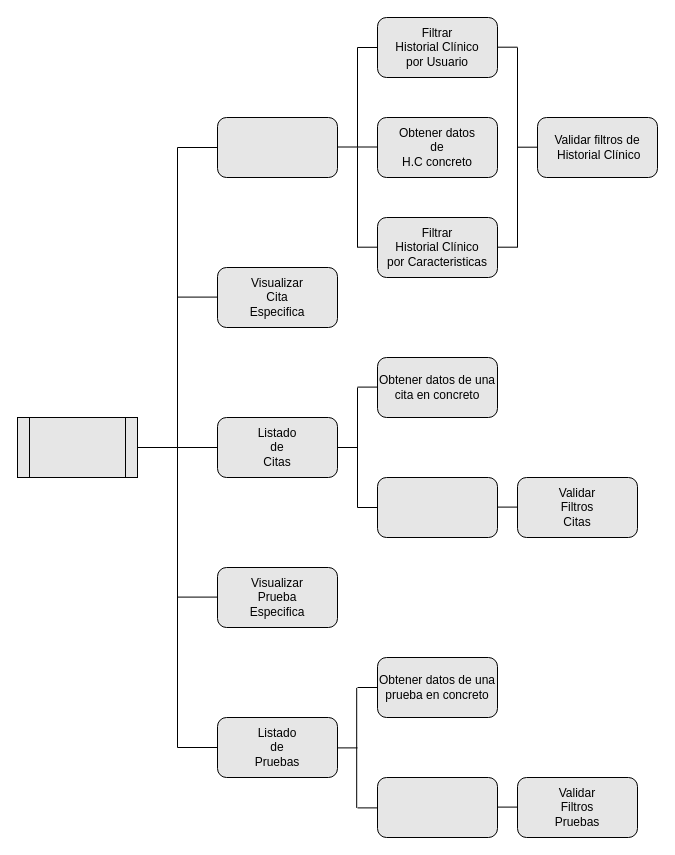
Some shapes in this 675 by 855 pixel diagram are drawn without their labels. Here are the shapes that lost their labels. From the top down, the centre of each, then its label:
At (x=277, y=147): "Visualizar Historial Clínico".
At (x=77, y=447): "Gestión de Usuarios".
At (x=437, y=507): "Filtrar citas por caracteristicas".
At (x=437, y=807): "Filtrar pruebas por caracteristicas".
